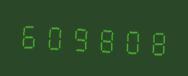eight: (93, 19, 117, 57), (143, 22, 167, 59)
nine: (68, 18, 92, 55)
six: (17, 16, 41, 53)
zero: (42, 17, 66, 54), (118, 21, 142, 58)
